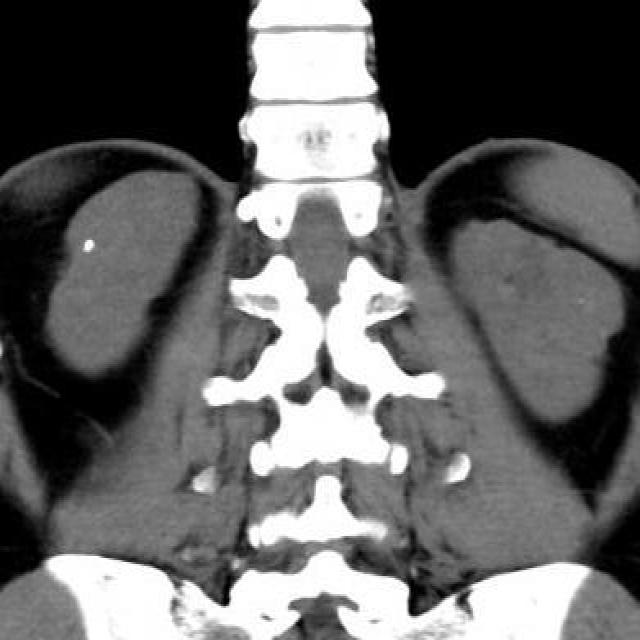Tas_Var: (80, 237, 97, 257)
